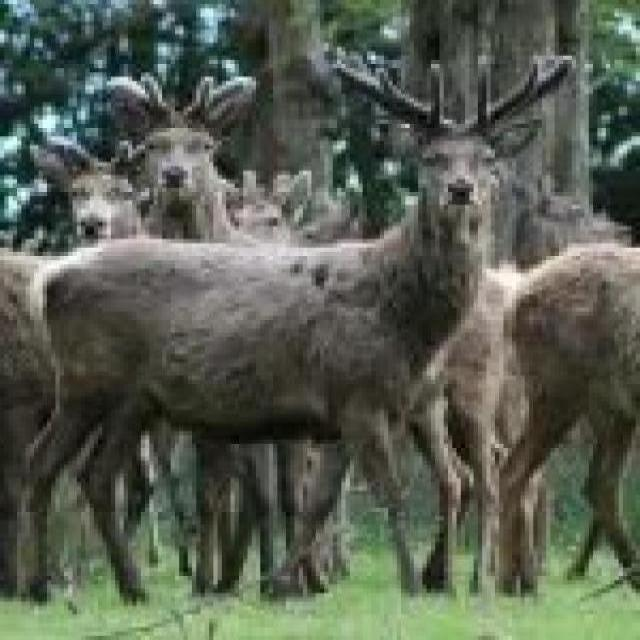deer: (3, 85, 551, 519)
